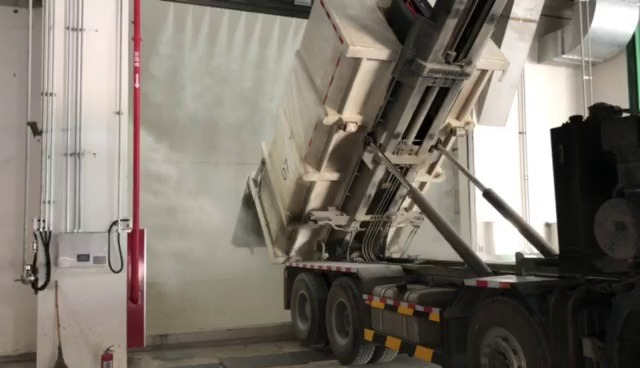dust: (139, 78, 277, 307)
truck: (256, 1, 640, 368)
